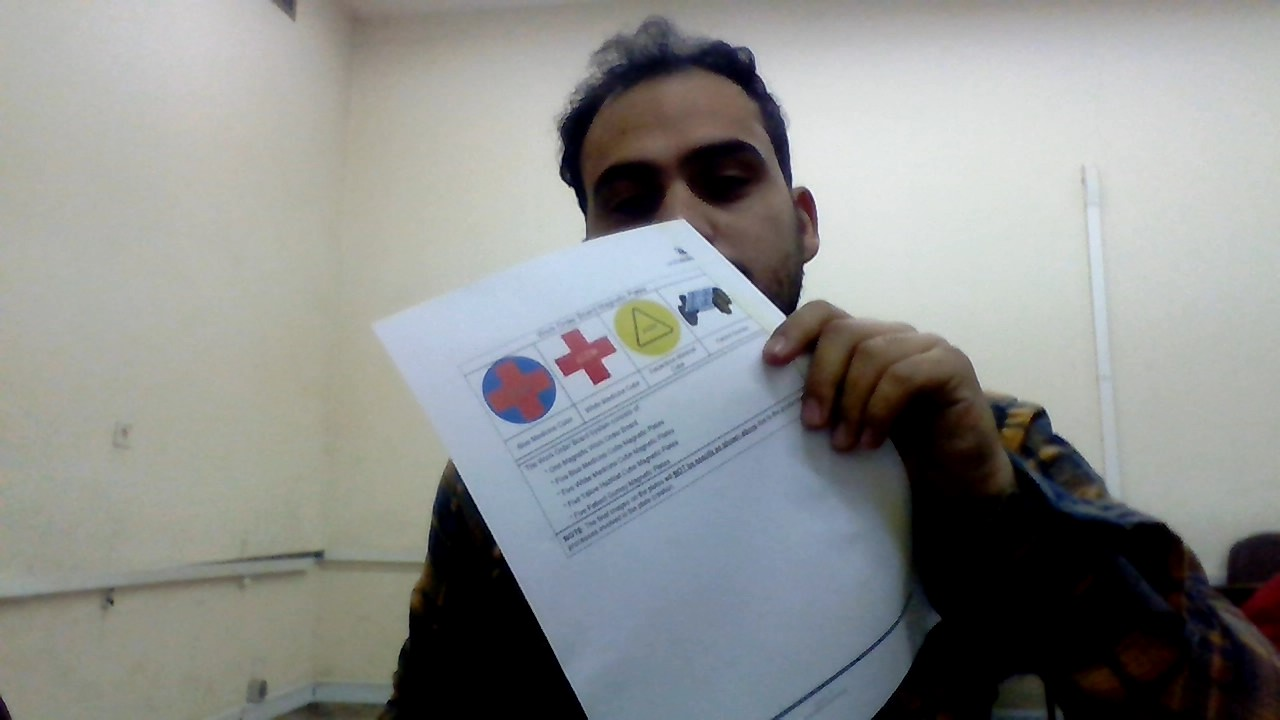bmc: (481, 355, 556, 426)
hmc: (608, 299, 682, 353)
pg: (672, 282, 734, 326)
wmc: (554, 328, 617, 385)
